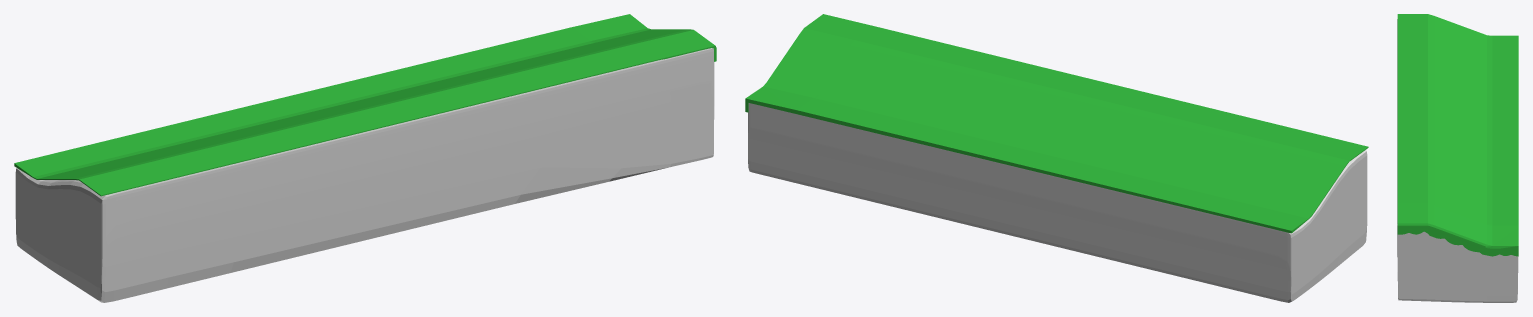
File: Tile_Cuesta_Izquierda.fbx
The picture shows the model from 3 angles, left to right: view 1: azimuth 30°, elevation 25°; view 2: azimuth 150°, elevation 25°; view 3: azimuth 270°, elevation 25°; orthographic projection. The views are drawn at different scales.
Visible parts, largest first — view 1: Cube.010; view 2: Cube.010; view 3: Cube.010.
Part boxes in pixels (left/top/right/bottom): Cube.010: left=14, top=14, right=716, bottom=302; Cube.010: left=745, top=14, right=1368, bottom=302; Cube.010: left=1397, top=14, right=1518, bottom=302.
Bounding box in the file's own units: 4098 × 738 × 1003.
